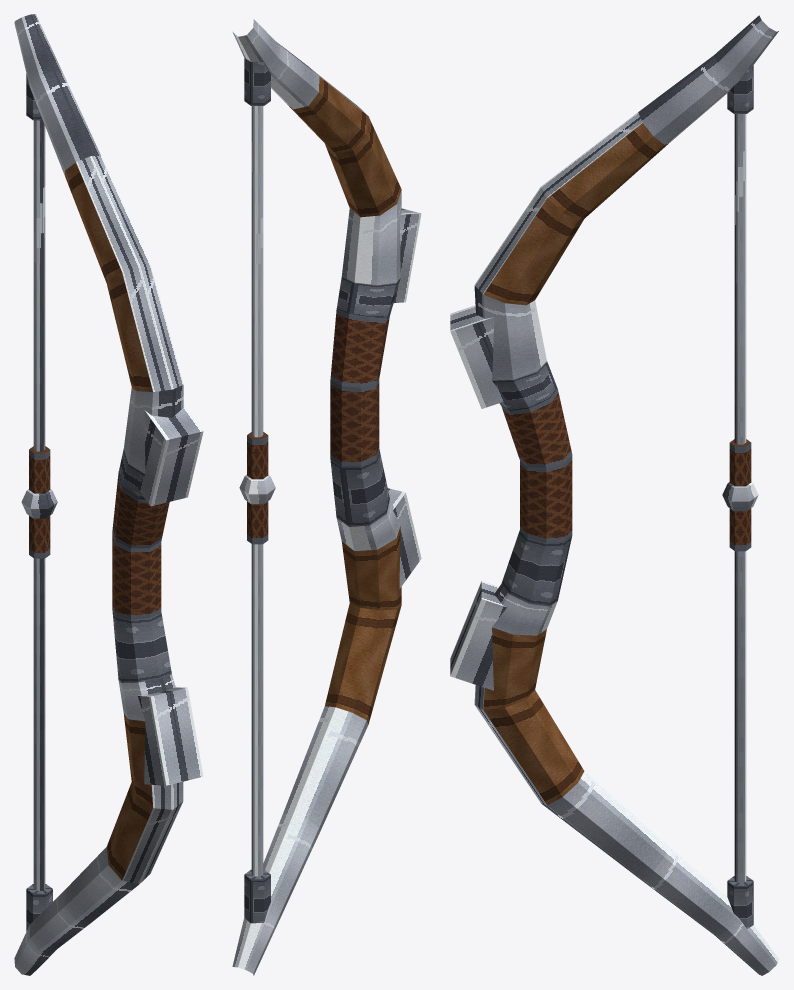
File: arco_de_ferro.glb
3 views of the same model, side by side, from view 1: azimuth 30°, elevation 25°; view 2: azimuth 150°, elevation 25°; view 3: azimuth 270°, elevation 25° (orthographic).
Visible parts, largest first — view 1: arco_de_ferro; view 2: arco_de_ferro; view 3: arco_de_ferro.
Part boxes in pixels (x1,y1,x2,y2): arco_de_ferro: [14, 14, 203, 975]; arco_de_ferro: [232, 19, 421, 975]; arco_de_ferro: [450, 15, 779, 975].
Bounding box in the file's own units: 0.07 × 1.28 × 0.3981.
Materials: 1 (1 with a texture image).
